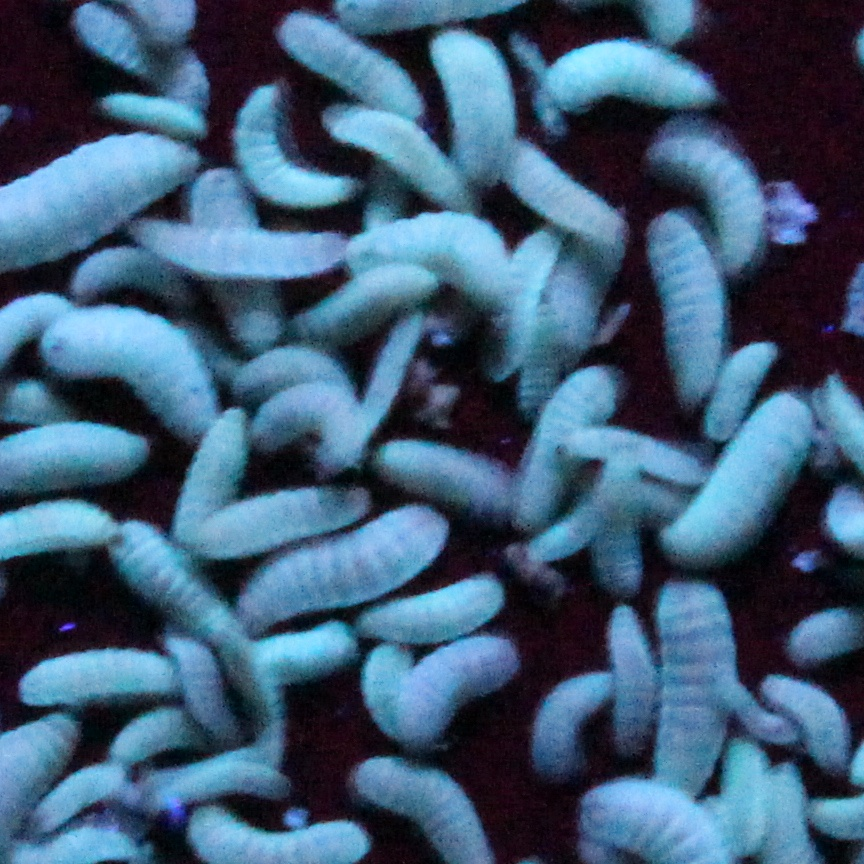larve: (57, 311, 226, 425), (249, 519, 435, 607), (684, 419, 800, 554), (671, 133, 771, 255), (126, 517, 233, 629), (661, 599, 722, 783), (208, 178, 275, 342), (252, 94, 354, 196), (296, 28, 403, 125), (557, 47, 713, 113), (657, 219, 716, 389), (361, 223, 512, 289), (408, 640, 516, 729), (153, 229, 341, 280), (522, 152, 635, 235), (528, 378, 590, 527), (486, 242, 555, 374), (539, 256, 600, 401), (343, 331, 418, 446), (528, 676, 612, 778), (103, 11, 198, 94), (449, 38, 505, 169), (304, 280, 428, 338), (271, 389, 357, 472), (163, 750, 279, 811), (208, 505, 357, 552), (610, 619, 657, 762), (716, 342, 784, 432), (390, 454, 518, 501), (28, 652, 163, 695), (373, 582, 494, 629), (792, 685, 853, 776), (33, 770, 114, 831), (192, 425, 235, 538), (247, 352, 343, 401), (582, 434, 694, 474), (171, 640, 220, 731), (255, 629, 365, 668), (115, 86, 198, 135), (610, 464, 641, 589), (116, 719, 194, 768), (726, 752, 757, 864), (369, 644, 404, 738), (539, 505, 594, 560), (732, 685, 786, 736), (71, 268, 163, 289)
